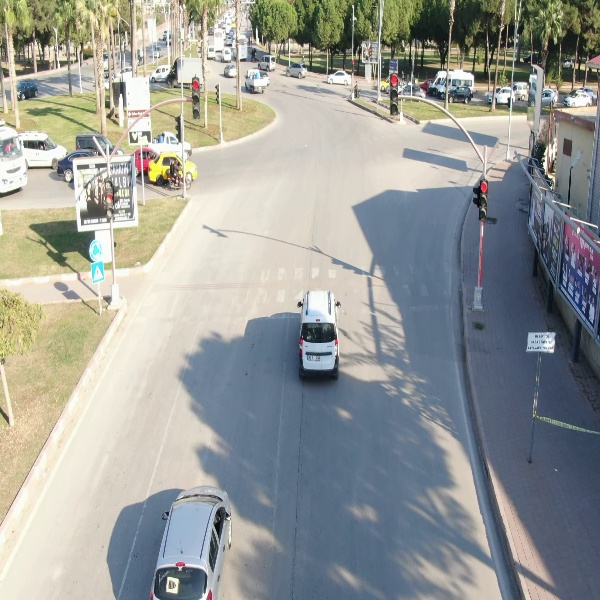car: (296, 287, 341, 381), (486, 84, 517, 106), (324, 67, 354, 88), (564, 88, 594, 109), (445, 83, 475, 104), (17, 78, 43, 101), (149, 62, 171, 85), (285, 60, 308, 79), (256, 51, 278, 70), (222, 62, 238, 78)
